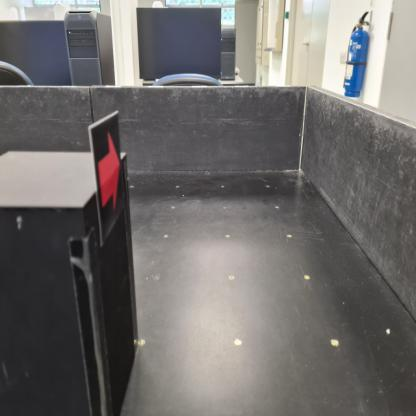left: (88, 109, 127, 249)
